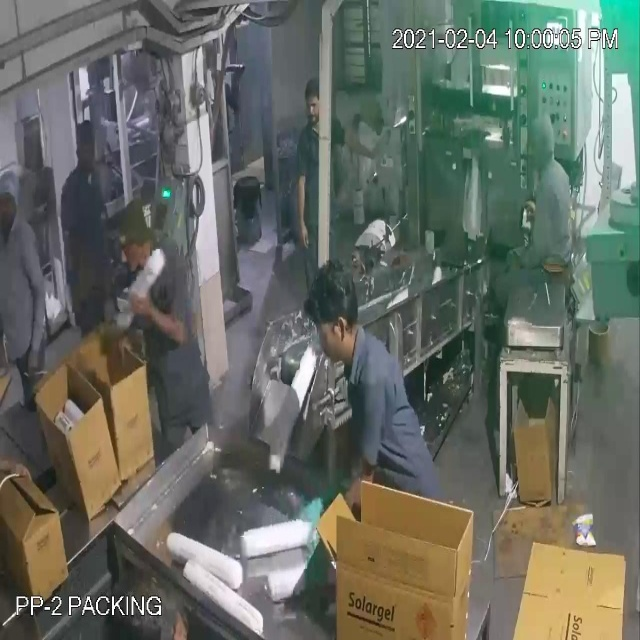Sin_guantes: (130, 275, 198, 359), (21, 259, 54, 381), (328, 117, 385, 162), (292, 161, 316, 256)
